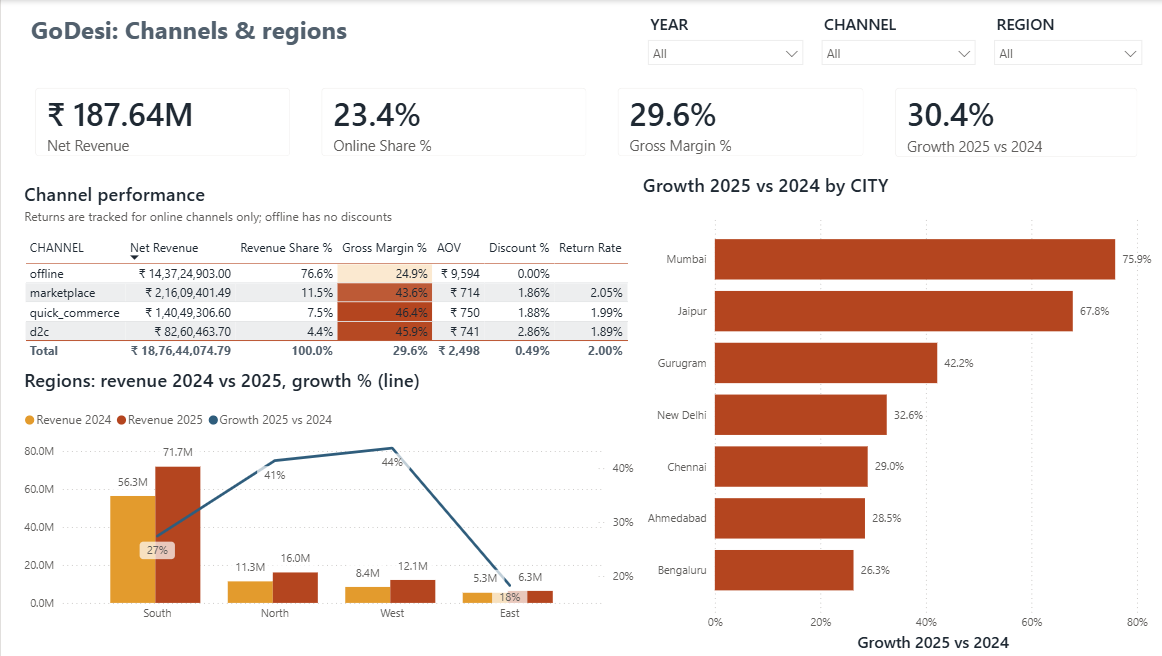

What the dashboard file says about the page in this screenshot:
{"tool":"powerbi","page":{"name":" Channels & regions","canvas":[1280,720],"ordinal":2},"visuals":[{"type":"slicer","fields":{"Values":["DIM_DATE.YEAR"]},"box":[699.8,9.6,190.7,70],"z":0},{"type":"slicer","fields":{"Values":["DIM_CHANNEL.CHANNEL"]},"box":[890.6,9.6,189.4,70],"z":1000},{"type":"slicer","fields":{"Values":["DIM_GEOGRAPHY.REGION"]},"box":[1079.9,9.6,182.5,70],"z":2000},{"type":"cardVisual","fields":{"Data":["FCT_ORDER_ITEMS.Net Revenue"]},"box":[20.6,79.6,314.2,109.8],"z":3000},{"type":"cardVisual","fields":{"Data":["FCT_ORDER_ITEMS.Gross Margin %"]},"box":[660,79.6,304.6,109.8],"z":4000},{"type":"cardVisual","fields":{"Data":["FCT_ORDER_ITEMS.Growth 2025 vs 2024"]},"box":[965,80,300,110],"z":5000},{"type":"cardVisual","fields":{"Data":["FCT_ORDER_ITEMS.Online Share %"]},"box":[334.8,79.6,325.2,109.8],"z":6000},{"type":"textbox","box":[20,10,600,50],"z":7000},{"type":"tableEx","title":" Channel performance","fields":{"Values":["DIM_CHANNEL.CHANNEL","FCT_ORDER_ITEMS.Net Revenue","FCT_ORDER_ITEMS.Revenue Share %","FCT_ORDER_ITEMS.Gross Margin %","FCT_ORDER_ITEMS.AOV","FCT_ORDER_ITEMS.Discount %","FCT_ORDER_ITEMS.Return Rate"]},"box":[20.6,199,679.2,204.5],"z":8000},{"type":"lineClusteredColumnComboChart","title":" Regions: revenue 2024 vs 2025, growth % (line)","fields":{"Category":["DIM_GEOGRAPHY.REGION"],"Y":["FCT_ORDER_ITEMS.Revenue 2024","FCT_ORDER_ITEMS.Revenue 2025"],"Y2":["FCT_ORDER_ITEMS.Growth 2025 vs 2024"]},"box":[20.6,403.4,679.2,288.2],"z":9000},{"type":"clusteredBarChart","title":" Fastest-growing cities (2024 revenue ≥ ₹10 lakh)","fields":{"Category":["DIM_GEOGRAPHY.CITY"],"Y":["FCT_ORDER_ITEMS.Growth 2025 vs 2024"]},"box":[699.8,189.4,580.4,531],"z":10000}]}

Visuals, with their boxes in screenshot pixels (x1, y1, x2, y2), scaled from the page's 1280x720 canvas onto the 1162x656 screenshot:
slicer - DIM_DATE.YEAR: (left=635, top=9, right=808, bottom=73)
slicer - DIM_CHANNEL.CHANNEL: (left=808, top=9, right=980, bottom=73)
slicer - DIM_GEOGRAPHY.REGION: (left=980, top=9, right=1146, bottom=73)
cardVisual - FCT_ORDER_ITEMS.Net Revenue: (left=19, top=73, right=304, bottom=173)
cardVisual - FCT_ORDER_ITEMS.Gross Margin %: (left=599, top=73, right=876, bottom=173)
cardVisual - FCT_ORDER_ITEMS.Growth 2025 vs 2024: (left=876, top=73, right=1148, bottom=173)
cardVisual - FCT_ORDER_ITEMS.Online Share %: (left=304, top=73, right=599, bottom=173)
textbox: (left=18, top=9, right=563, bottom=55)
" Channel performance" tableEx: (left=19, top=181, right=635, bottom=368)
" Regions: revenue 2024 vs 2025, growth % (line)" lineClusteredColumnComboChart: (left=19, top=368, right=635, bottom=630)
" Fastest-growing cities (2024 revenue ≥ ₹10 lakh)" clusteredBarChart: (left=635, top=173, right=1161, bottom=655)
